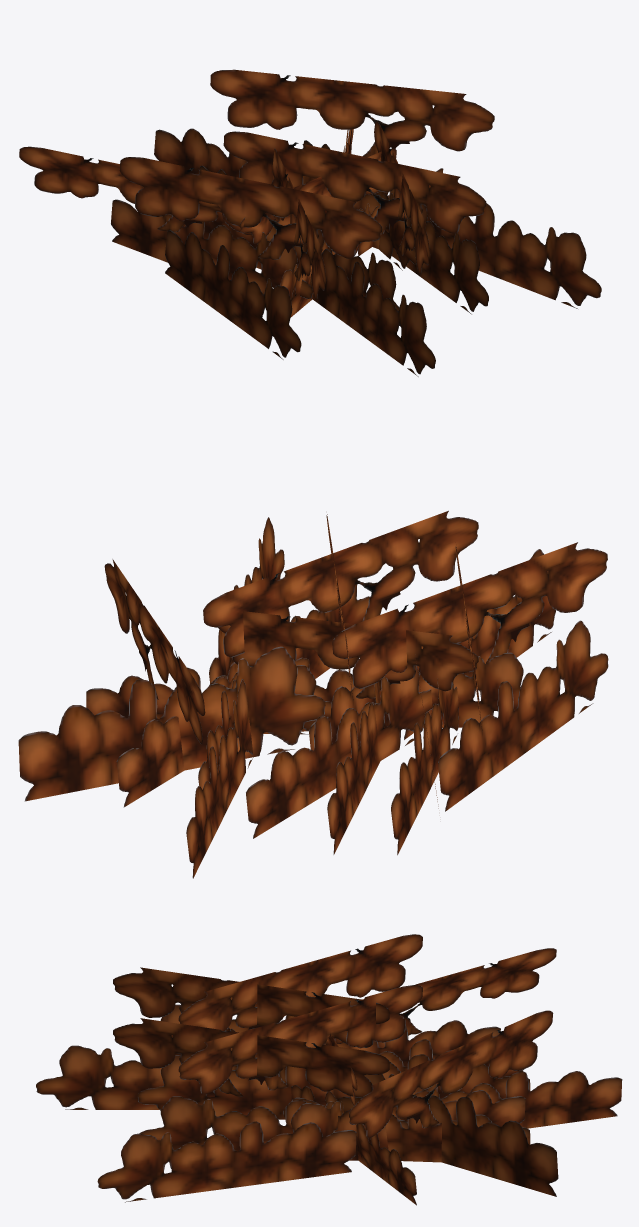
File: F_Grass1.fbx
The picture shows the model from 3 angles, top to bottom: view 1: azimuth 30°, elevation 25°; view 2: azimuth 150°, elevation 25°; view 3: azimuth 270°, elevation 25°; orthographic projection. The views are drawn at different scales.
Parts seen in each view (by area): view 1: F_Grass1; view 2: F_Grass1; view 3: F_Grass1.
Boxes of the visible parts, x1,y1,x2,y2 form: F_Grass1: (19,69,601,376); F_Grass1: (18,510,608,878); F_Grass1: (36,934,622,1205).
Size of the model in its own units: 269 by 93.39 by 373.
